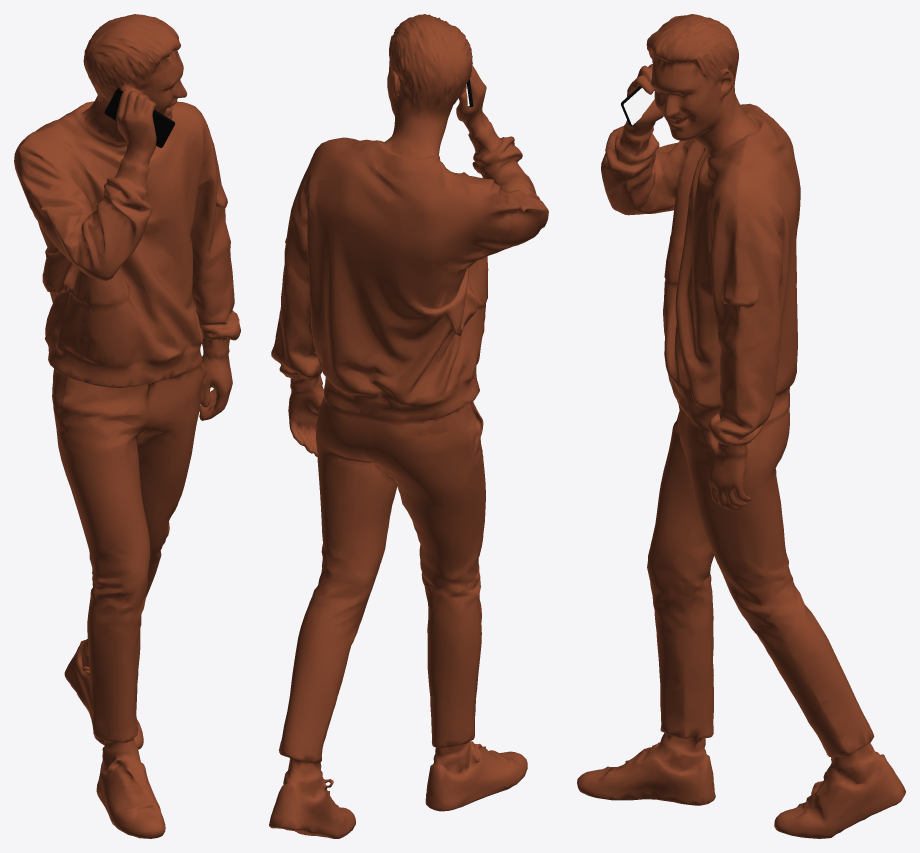
Rendered from withphone.glb.
3 renders of one model, left to right at view 1: azimuth 30°, elevation 25°; view 2: azimuth 150°, elevation 25°; view 3: azimuth 270°, elevation 25°, orthographic. The views are drawn at different scales.
Visible parts, largest first — view 1: Ivan_1304_COR; view 2: Ivan_1304_COR; view 3: Ivan_1304_COR.
Part boxes in pixels (x1,y1,x2,y2): Ivan_1304_COR: (14, 14, 240, 838); Ivan_1304_COR: (269, 14, 548, 838); Ivan_1304_COR: (577, 14, 905, 838).
Bounding box in the file's own units: 570 × 1885 × 712.
